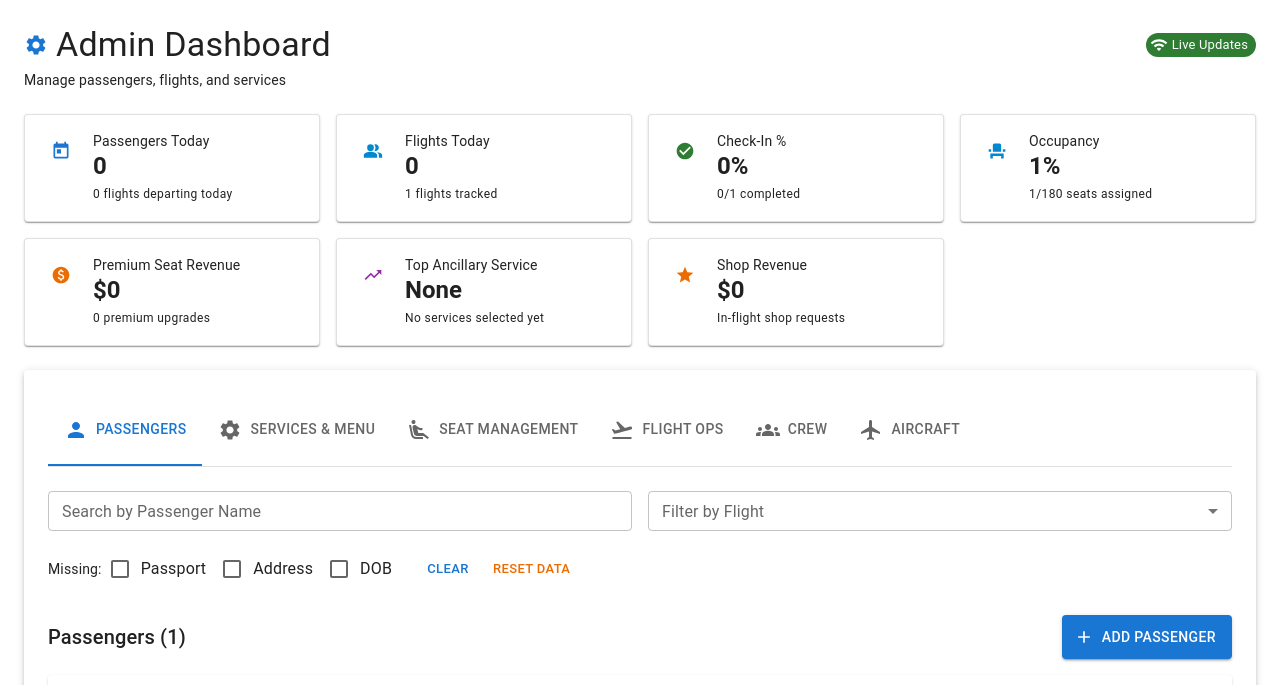
Test: AdminDashboard › Tab Navigation › should switch to seat management tab when clicked
Click the tab "Seat Management" at (493, 430), box [391,394,594,466]
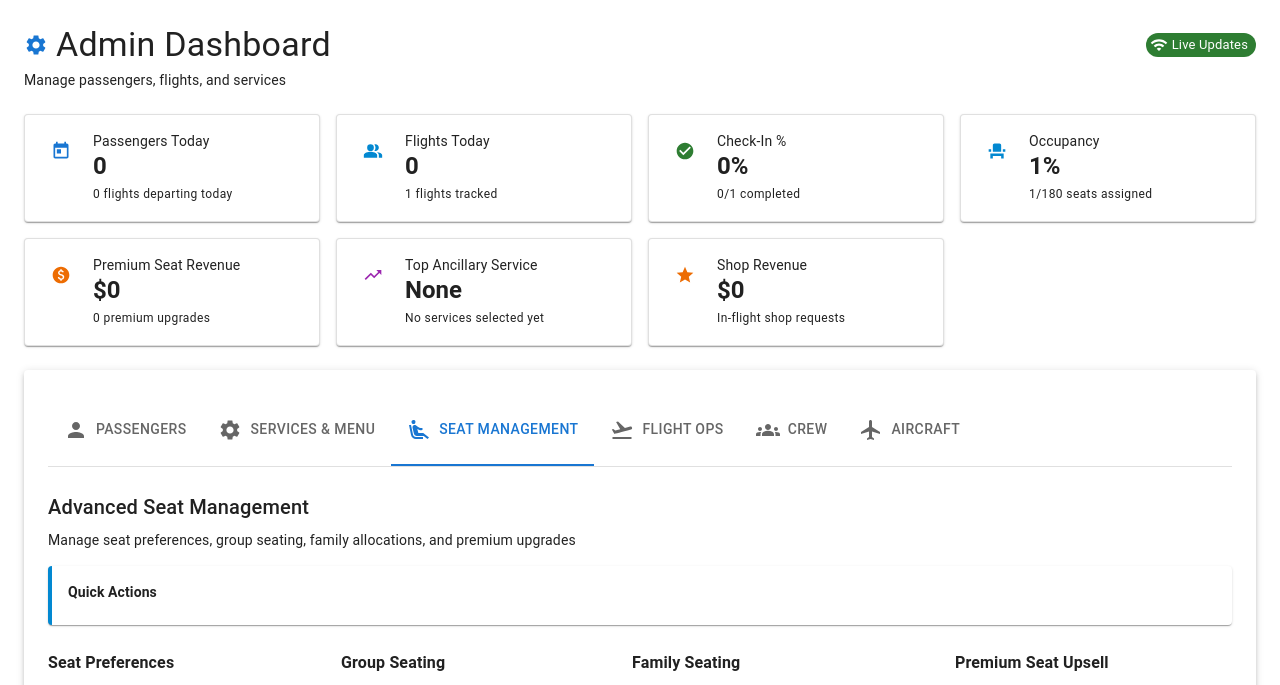
Check: the heading "Advanced Seat Management" is shown, box [48,495,309,519]
